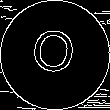O_S: (30, 26, 80, 84)
